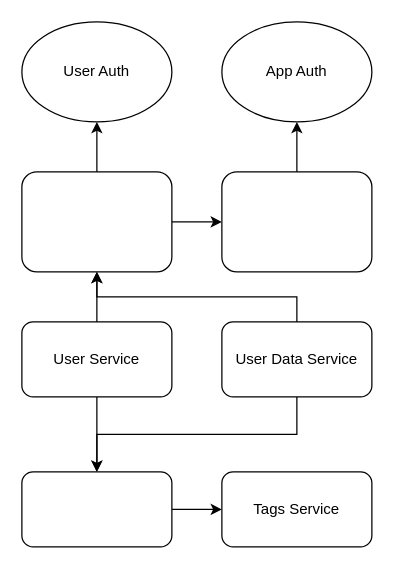
The diagram is 394 pixels wide and 569 high, and some of its shapes have lost their labels. Here are the shapes that lost their labels. From the top down, the centre of each, then its label:
the point at 96,221: User Auth Service
the point at 296,221: App Auth Service
the point at 96,509: Node Service
